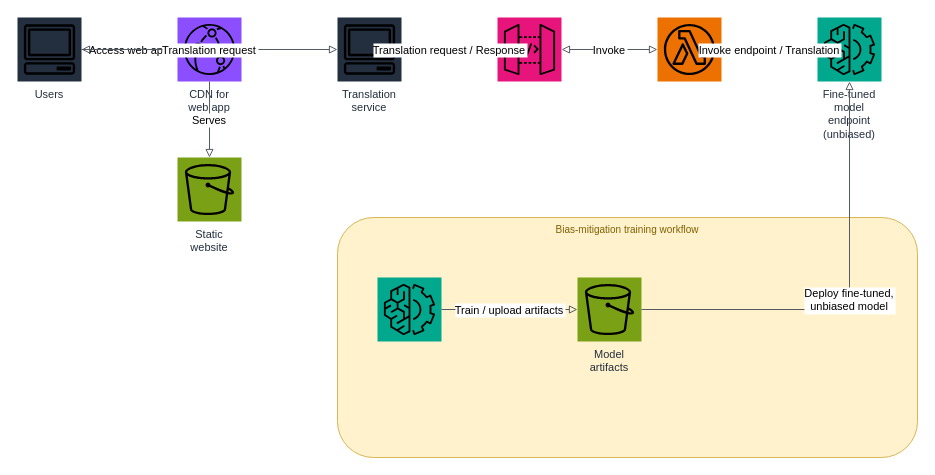
Image size: 935x475. Some labels were removed from this diagram. The centre of each missing label's shape, as x and y in pixels:
"Jupyter notebook Translation (gender bias)" belongs at point 409,309.
"REST API" belongs at point 529,49.
"Update endpoint" belongs at point 689,49.
